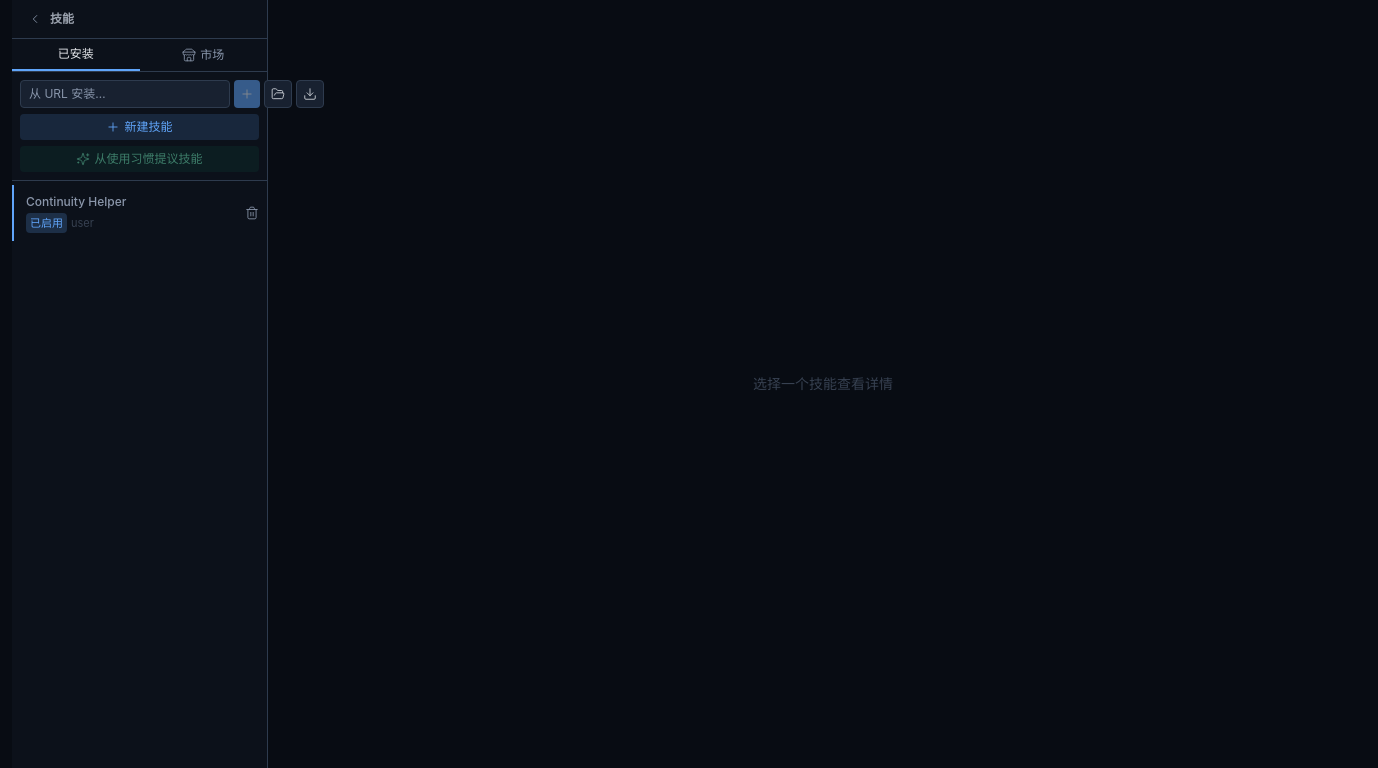
Skill lifecycle continuity › reports disable failure without projecting a false disabled state
What coordinates should you click on to do the following:
click the button with aria-label "查看 Continuity Helper"
I would click on:
 (124, 213)
Its box is [12,185,237,241].
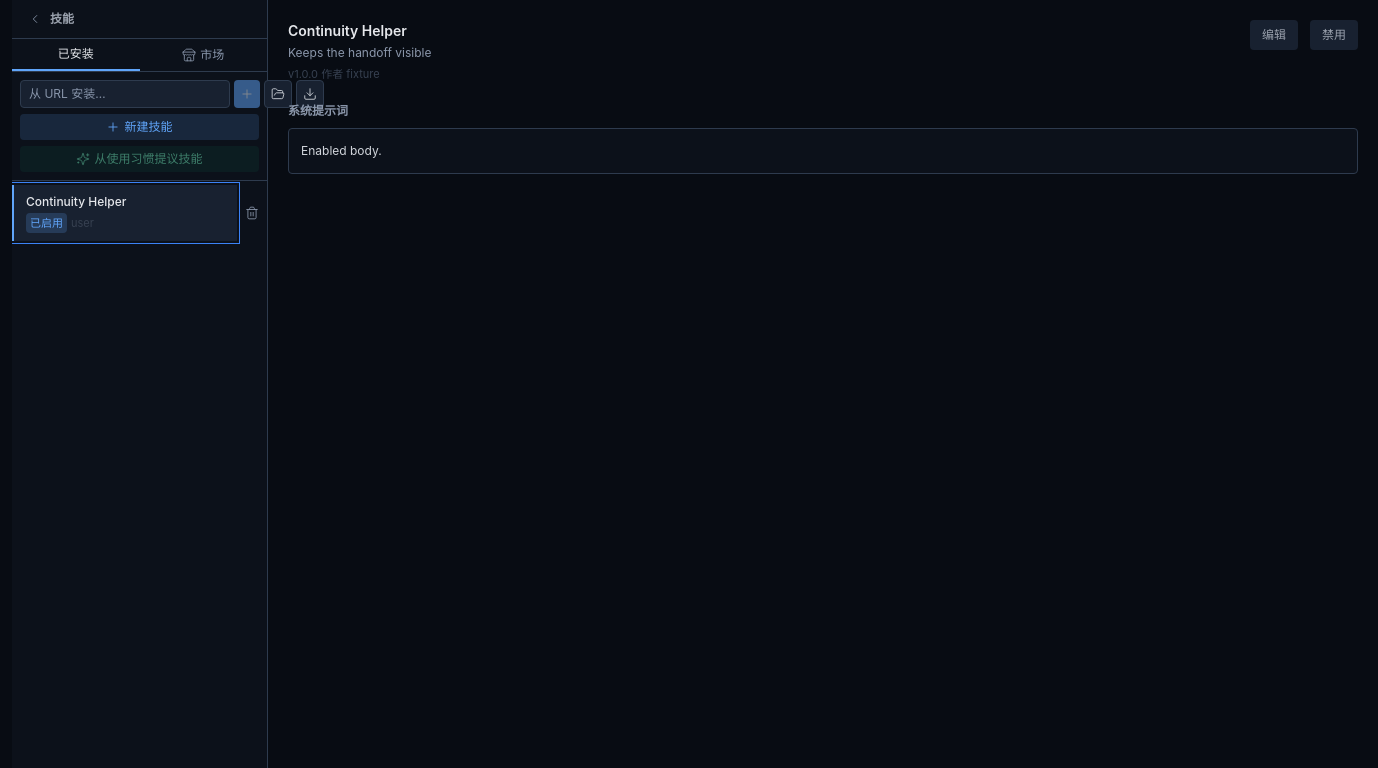
What coordinates should you click on to do the following:
click the button "禁用"
I would click on:
 (1334, 35)
Its box is [1310,20,1358,50].
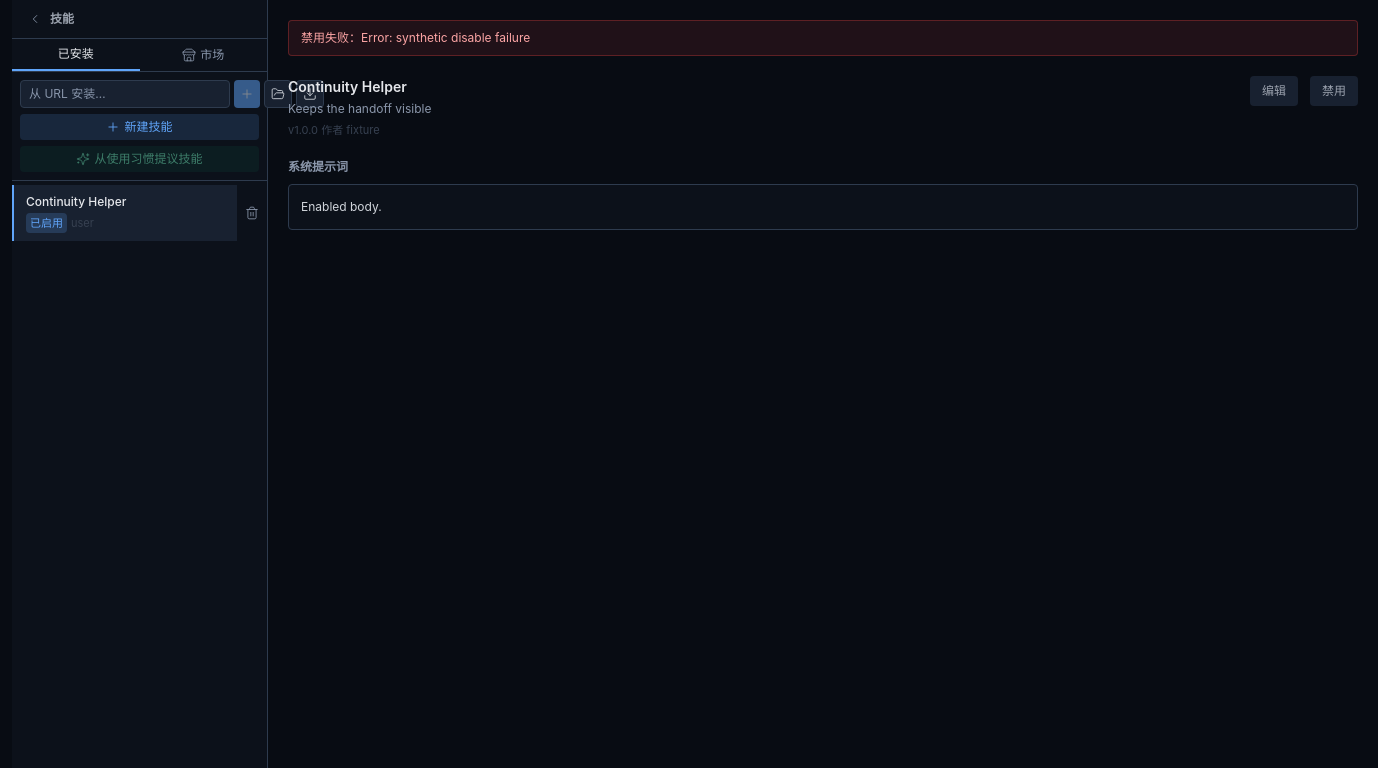
Now the button "禁用" is shown, box [1310,76,1358,106]
Now the message shows "禁用失败", box [301,30,530,45]
